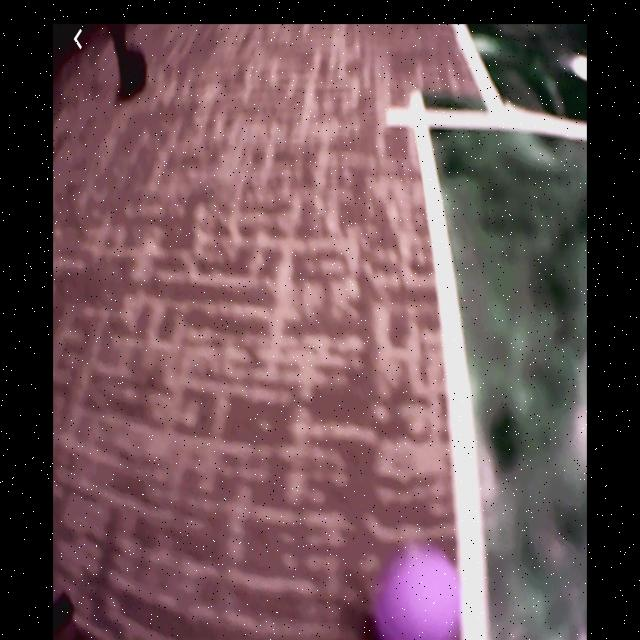ball: (371, 543, 463, 640)
